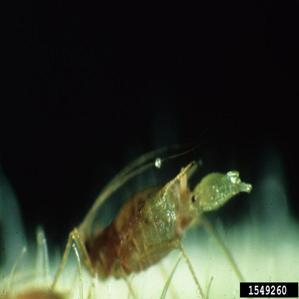Green peach aphid: (23, 107, 279, 281)
